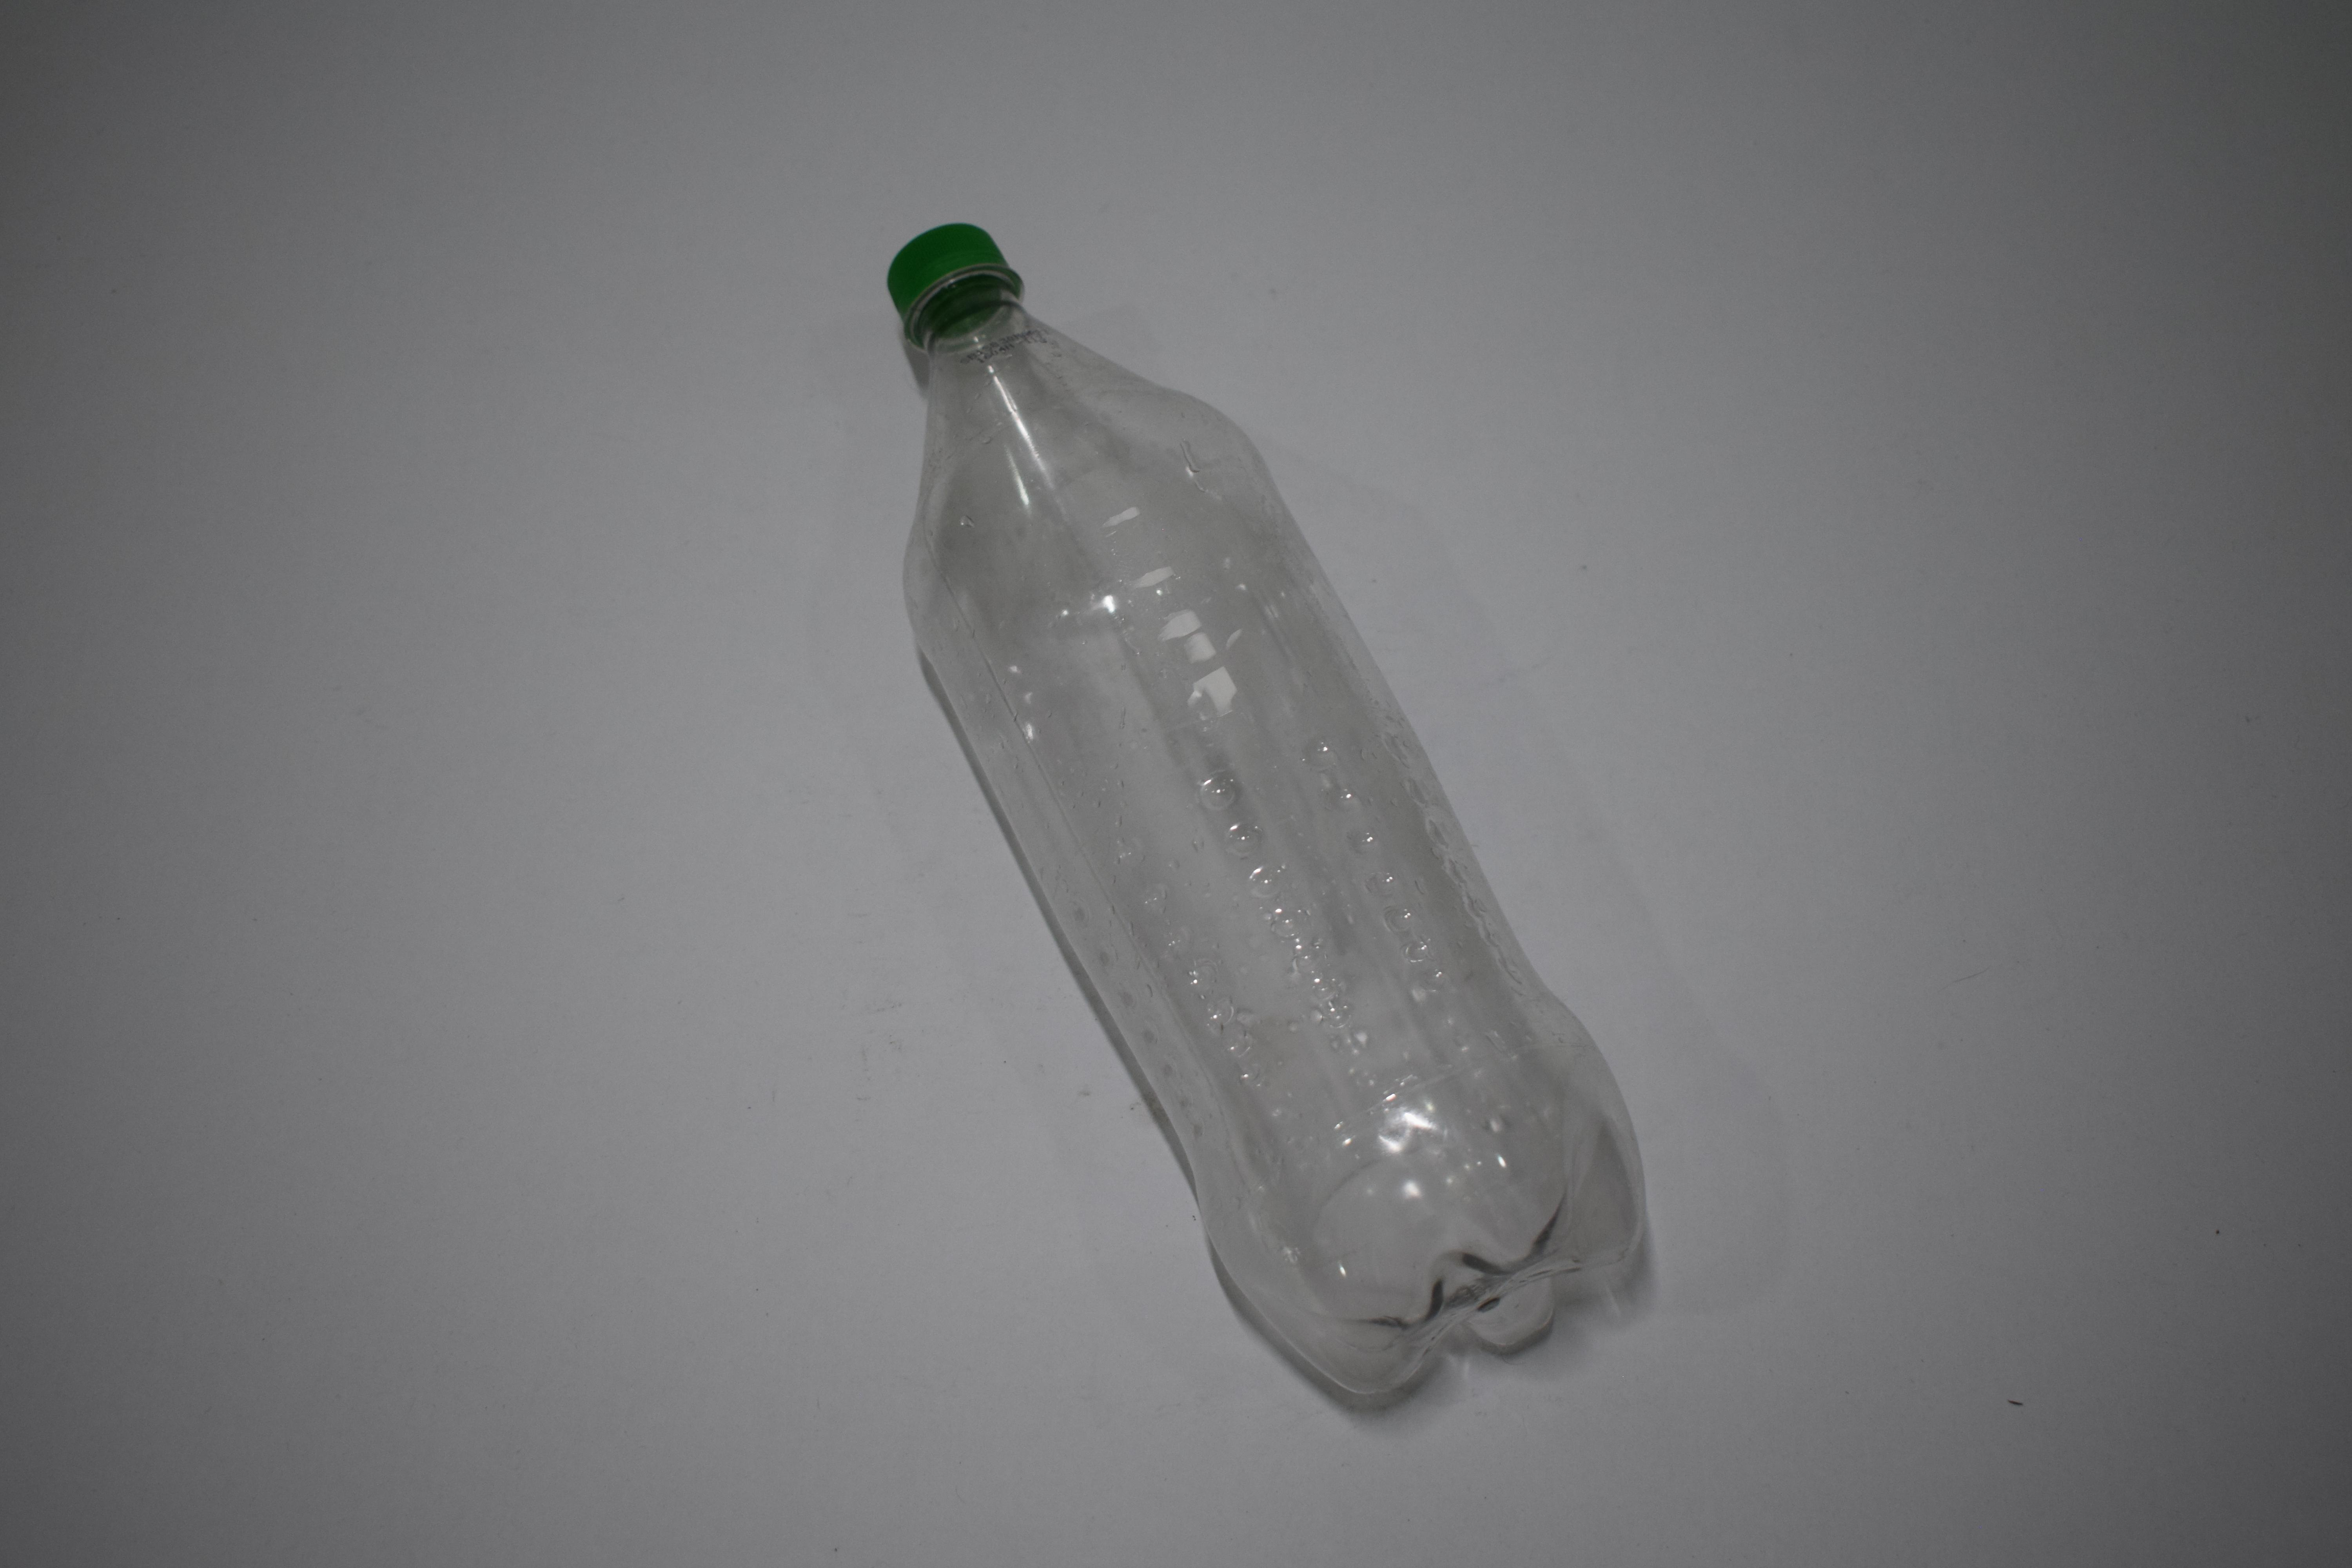bottle: (0, 0, 483, 639)
